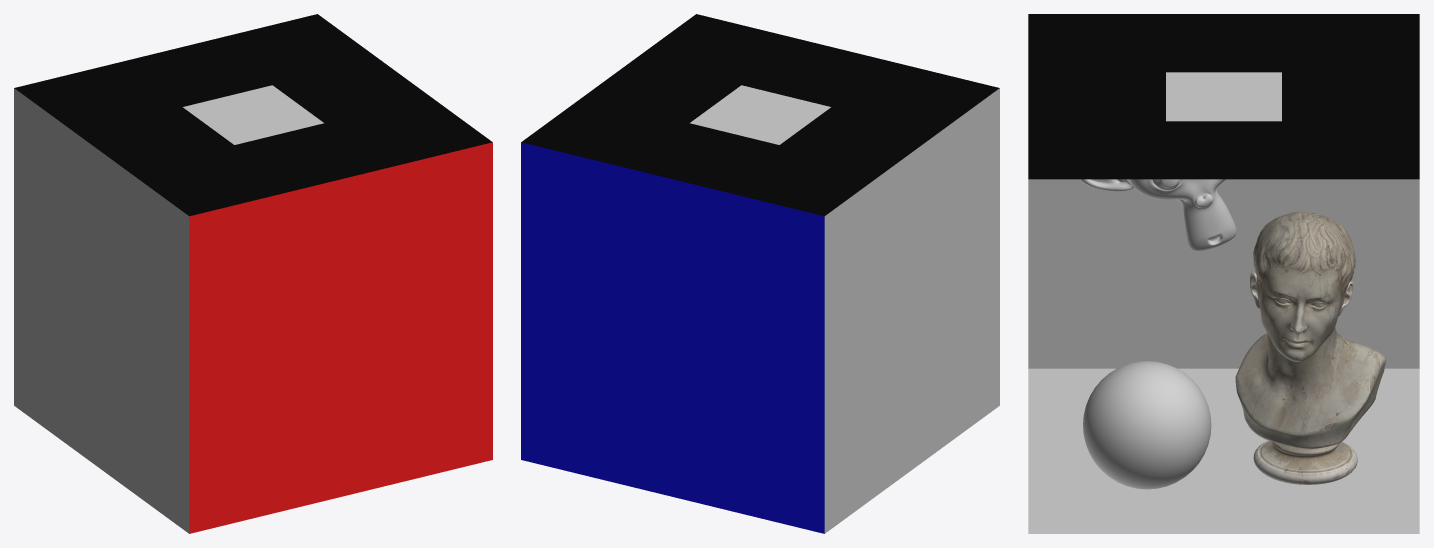
Rendered from 康奈尔盒子.obj.
3 renders of one model, left to right at view 1: azimuth 30°, elevation 25°; view 2: azimuth 150°, elevation 25°; view 3: azimuth 270°, elevation 25°, orthographic. The views are drawn at different scales.
Visible parts, largest first — view 1: wall_left, wall_back, top, top.001; view 2: wall_right, wall_back, top, top.001; view 3: top, wall_back, ground, marble_bust_01.002, 棱角球, top.001, 猴头.
Part boxes in pixels (x1,y1,x2,y2): wall_left: [189, 142, 492, 533]; wall_back: [14, 88, 189, 533]; top: [14, 14, 492, 216]; top.001: [183, 85, 323, 144]; wall_right: [521, 142, 824, 533]; wall_back: [824, 88, 999, 533]; top: [521, 14, 999, 216]; top.001: [690, 85, 830, 144]; top: [1028, 14, 1419, 179]; wall_back: [1028, 179, 1419, 368]; ground: [1028, 368, 1419, 533]; marble_bust_01.002: [1235, 211, 1386, 484]; 棱角球: [1083, 361, 1211, 489]; top.001: [1166, 72, 1281, 121]; 猴头: [1080, 179, 1236, 251].
Bounding box in the file's own units: 2 × 2 × 2.
Materials: 8 (1 with a texture image).
